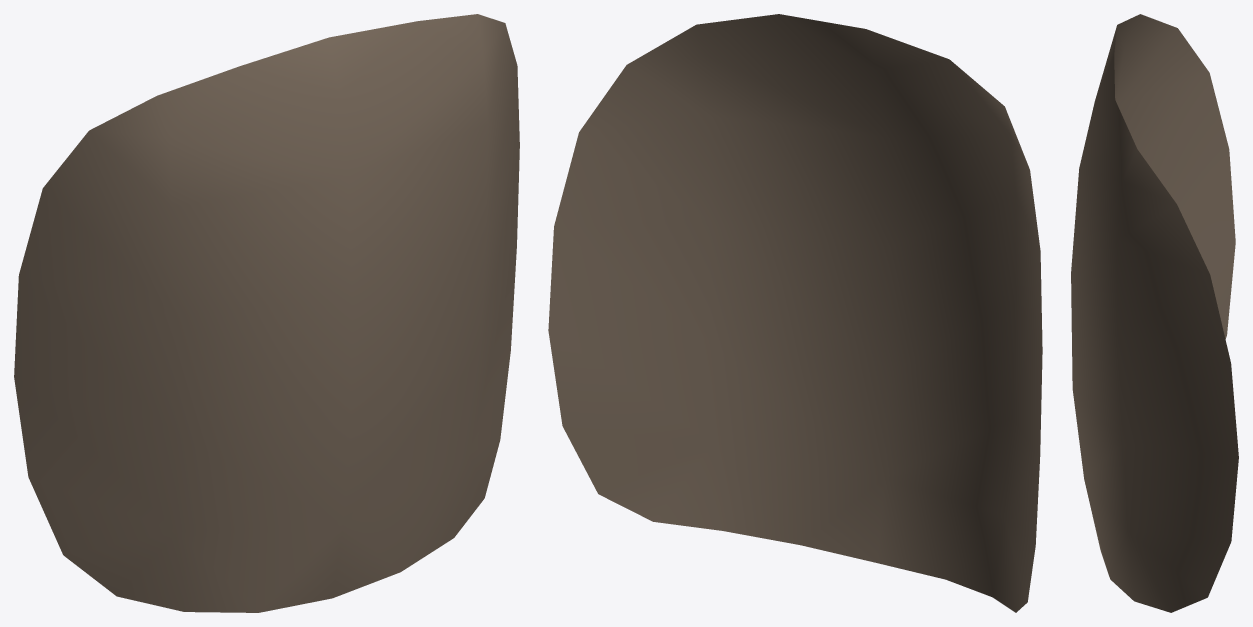
File: MD_nail_FootR.Middle.fbx
The picture shows the model from 3 angles, left to right: view 1: azimuth 30°, elevation 25°; view 2: azimuth 150°, elevation 25°; view 3: azimuth 270°, elevation 25°; orthographic projection. The views are drawn at different scales.
Parts seen in each view (by area): view 1: MD_nail_FootR.Middle; view 2: MD_nail_FootR.Middle; view 3: MD_nail_FootR.Middle.
Boxes of the visible parts, box(x1,y1,x2,y2) form: MD_nail_FootR.Middle: box(14, 14, 519, 612); MD_nail_FootR.Middle: box(548, 14, 1042, 612); MD_nail_FootR.Middle: box(1071, 14, 1238, 612).
Size of the model in its own units: 0.7111 by 0.7466 by 0.2285.
